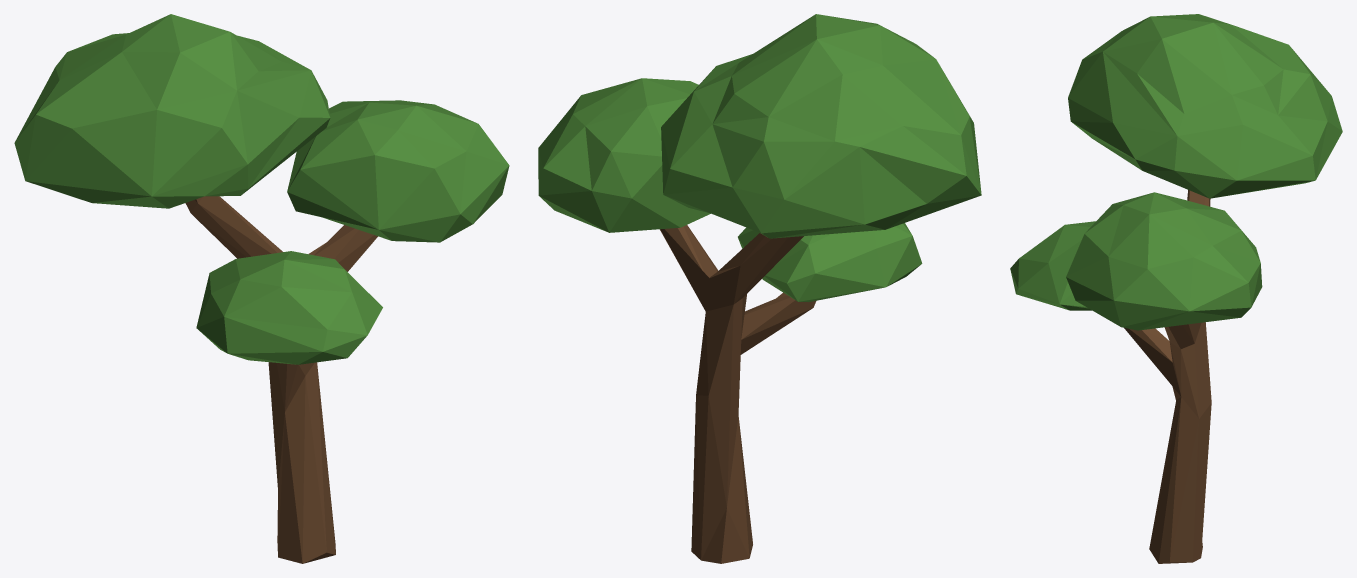
File: shaped-tree-branched.glb
The picture shows the model from 3 angles, left to right: view 1: azimuth 30°, elevation 25°; view 2: azimuth 150°, elevation 25°; view 3: azimuth 270°, elevation 25°; orthographic projection. The views are drawn at different scales.
Visible parts, largest first — view 1: leaves_Icosphere, trunk_Cube; view 2: leaves_Icosphere, trunk_Cube; view 3: leaves_Icosphere, trunk_Cube.
Boxes of the visible parts, x1,y1,x2,y2 form: leaves_Icosphere: [14, 14, 509, 364]; trunk_Cube: [185, 196, 377, 563]; leaves_Icosphere: [538, 14, 981, 302]; trunk_Cube: [660, 225, 816, 563]; leaves_Icosphere: [1010, 14, 1342, 330]; trunk_Cube: [1124, 190, 1211, 563].
Size of the model in its own units: 7.34 by 8.72 by 5.43.
